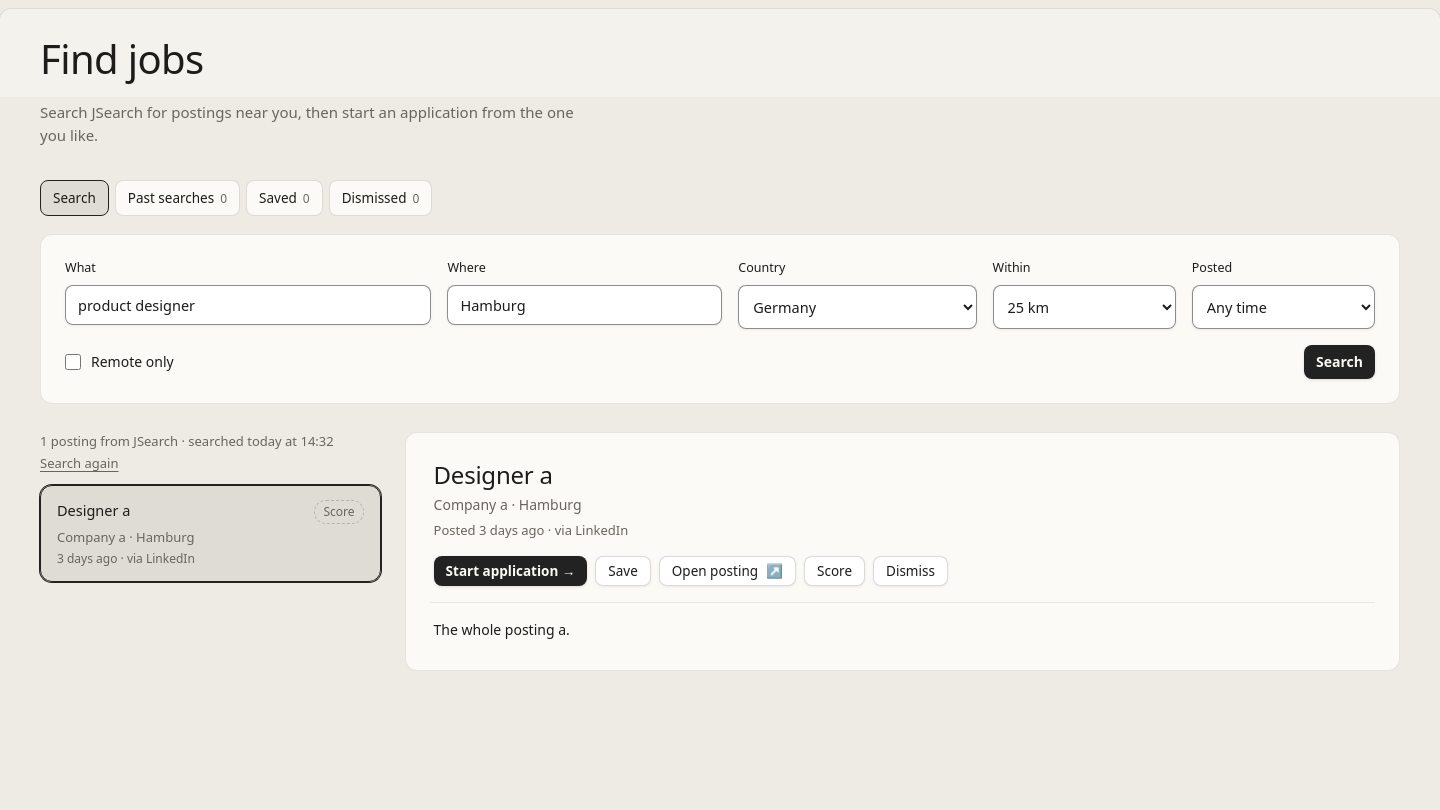
Test: problems › just says so when the quota is used up
Click the button "Search". click: x=1340, y=362
box: [1304,344,1375,378]
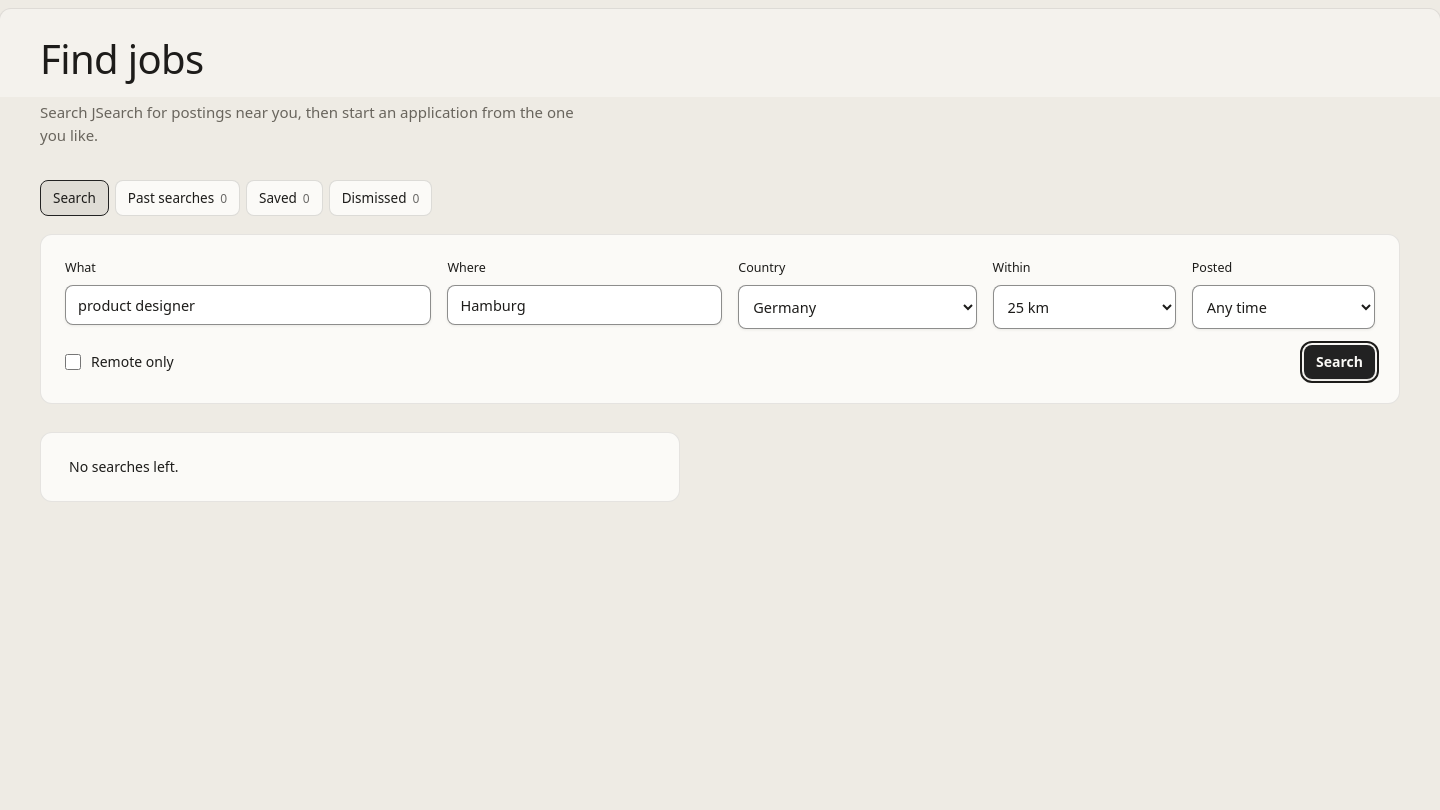
expect the message reads "No searches left.": met, box [69,456,178,476]
expect the link "Open posting ↗" is gone: met
expect the button "Search again" is gone: met
